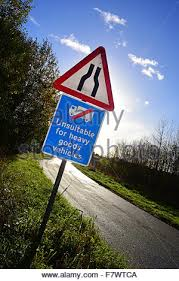Narrow_road: (52, 43, 116, 112)
